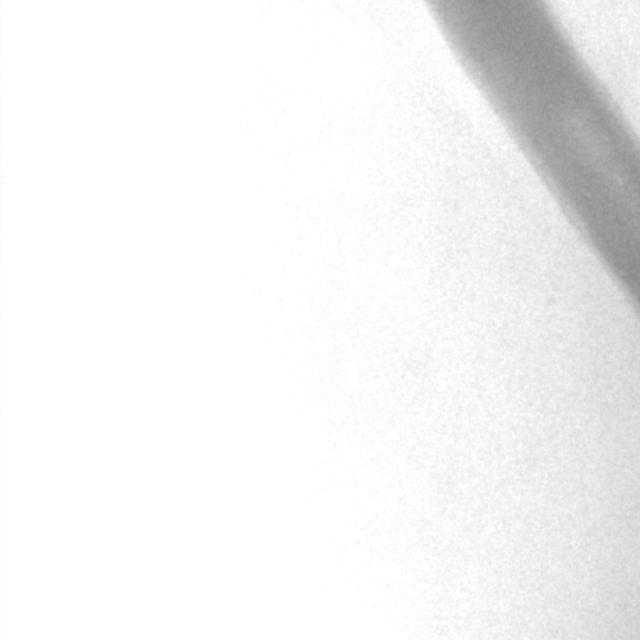air-hole: (617, 176, 621, 191)
